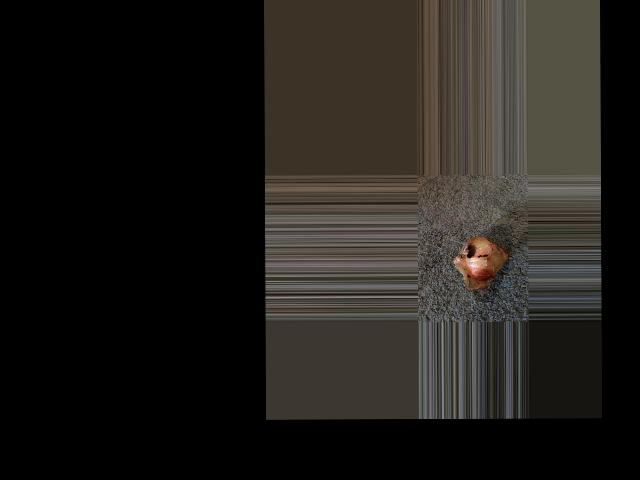onion: (460, 234, 507, 280)
